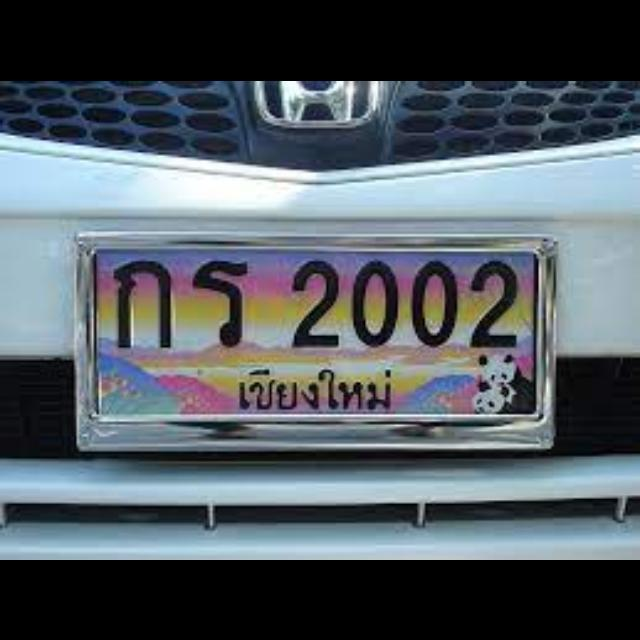licenseplate: (77, 230, 553, 450)
